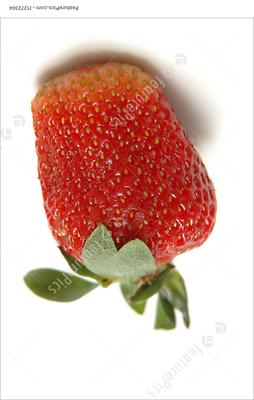strawberry: (0, 0, 254, 400)
